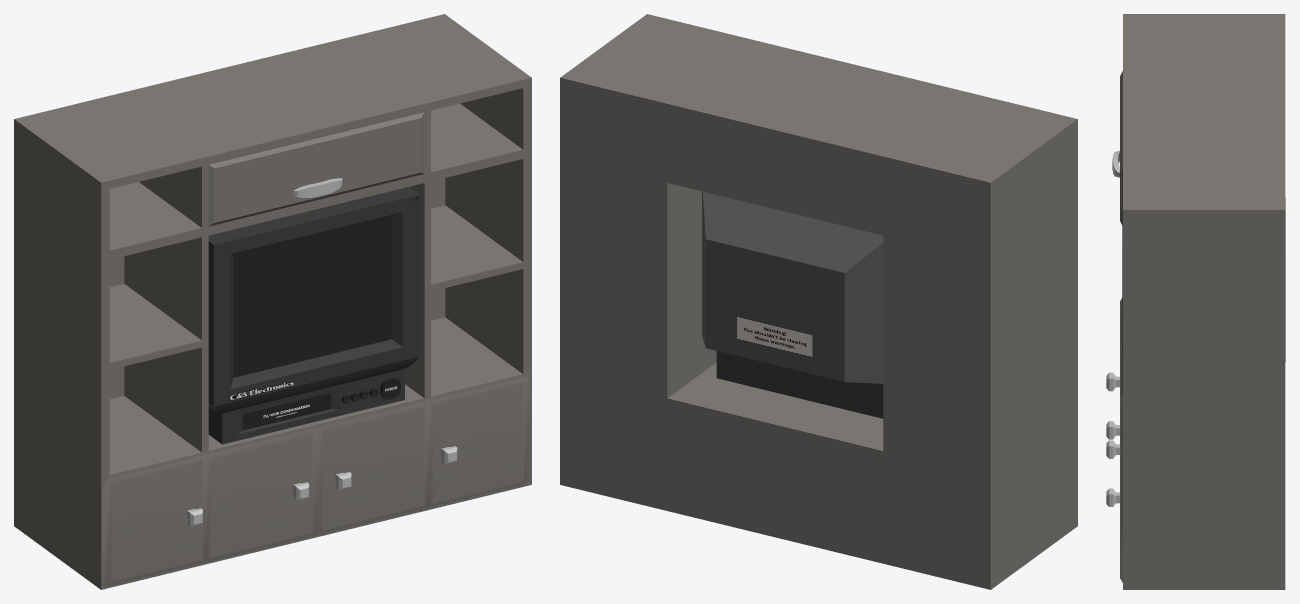
File: TVColour.fbx
The picture shows the model from 3 angles, left to right: view 1: azimuth 30°, elevation 25°; view 2: azimuth 150°, elevation 25°; view 3: azimuth 270°, elevation 25°; orthographic projection. The views are drawn at different scales.
Parts seen in each view (by area): view 1: Cabinet, TV; view 2: Cabinet, TV; view 3: Cabinet, TV.
Boxes of the visible parts, x1,y1,x2,y2 form: Cabinet: (14,14,531,589); TV: (208,187,419,444); Cabinet: (560,14,1077,589); TV: (702,191,883,418); Cabinet: (1120,14,1285,589); TV: (1122,197,1285,393).
Size of the model in its own units: 238 by 215 by 92.07.
